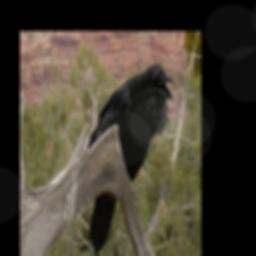Crow: (87, 62, 176, 256)
